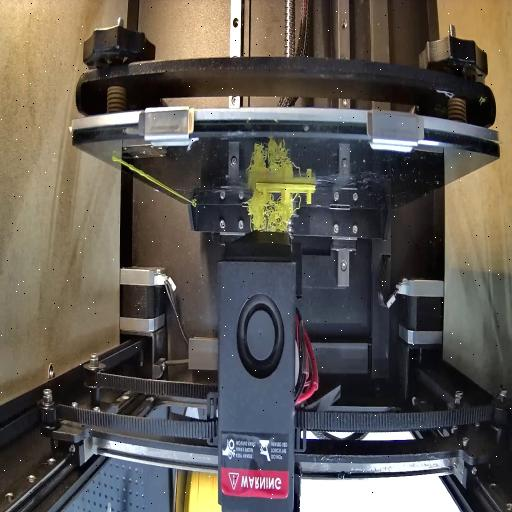spaghetti: (244, 190, 301, 234)
